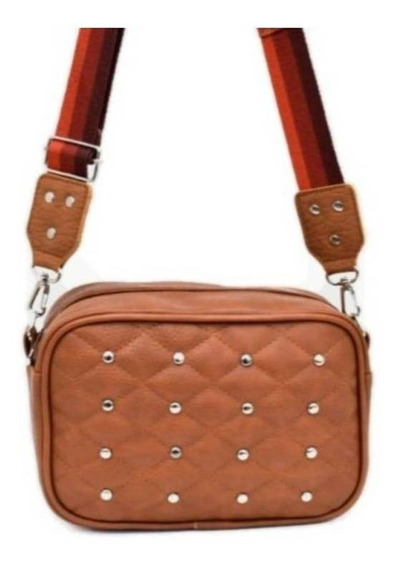cartera: (25, 28, 374, 535)
